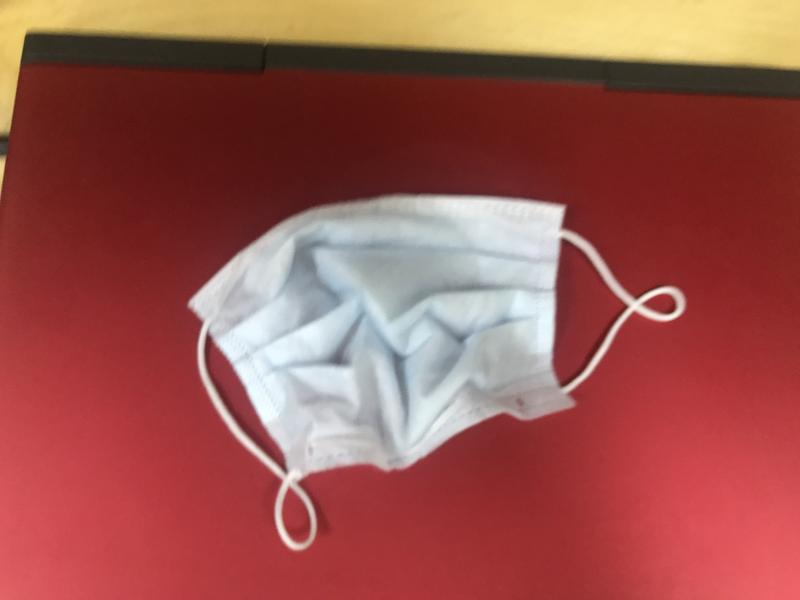medical_mask: (192, 192, 683, 551)
